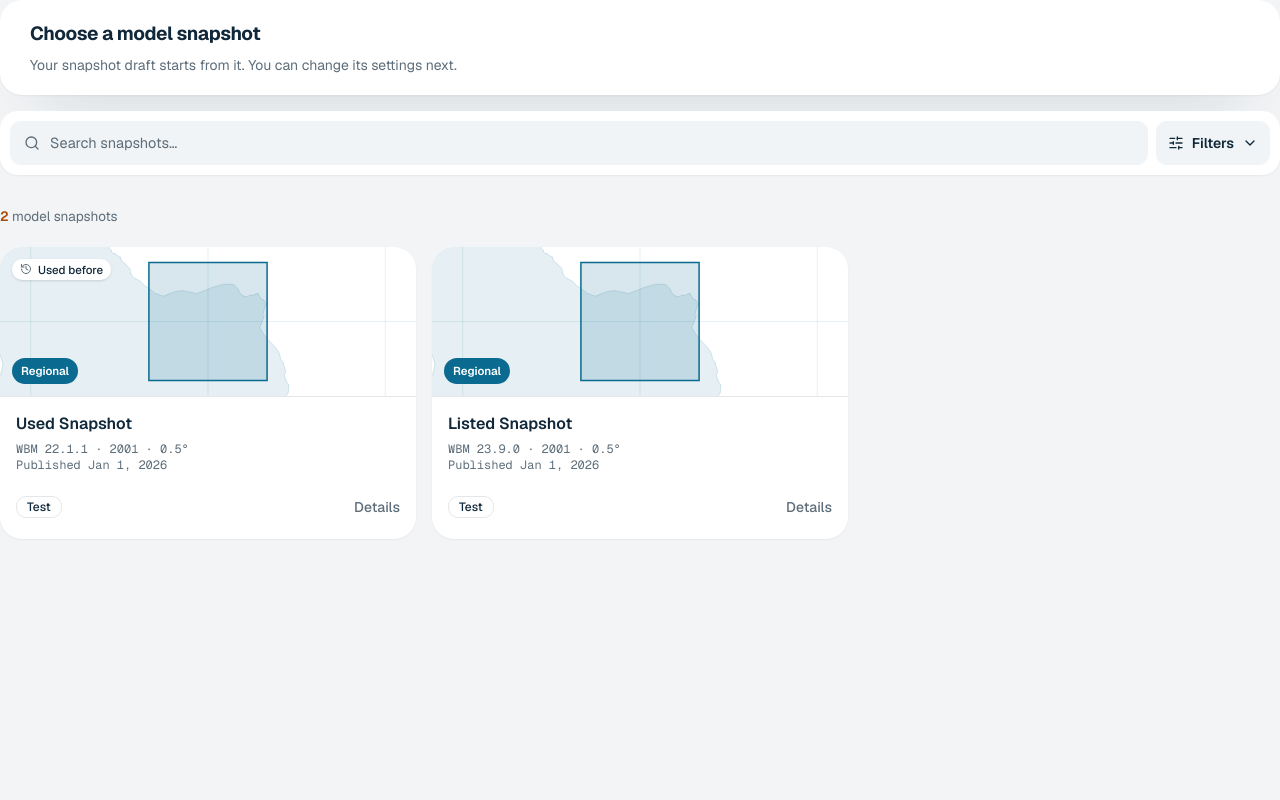
Test: a model snapshot › opens the same from the Select in a snapshot's Details sheet, which closes first
The width and height of the screenshot is (1280, 800).
Click the button with aria-label "Details: Listed Snapshot": (809, 506) x1=778 y1=490 x2=840 y2=522
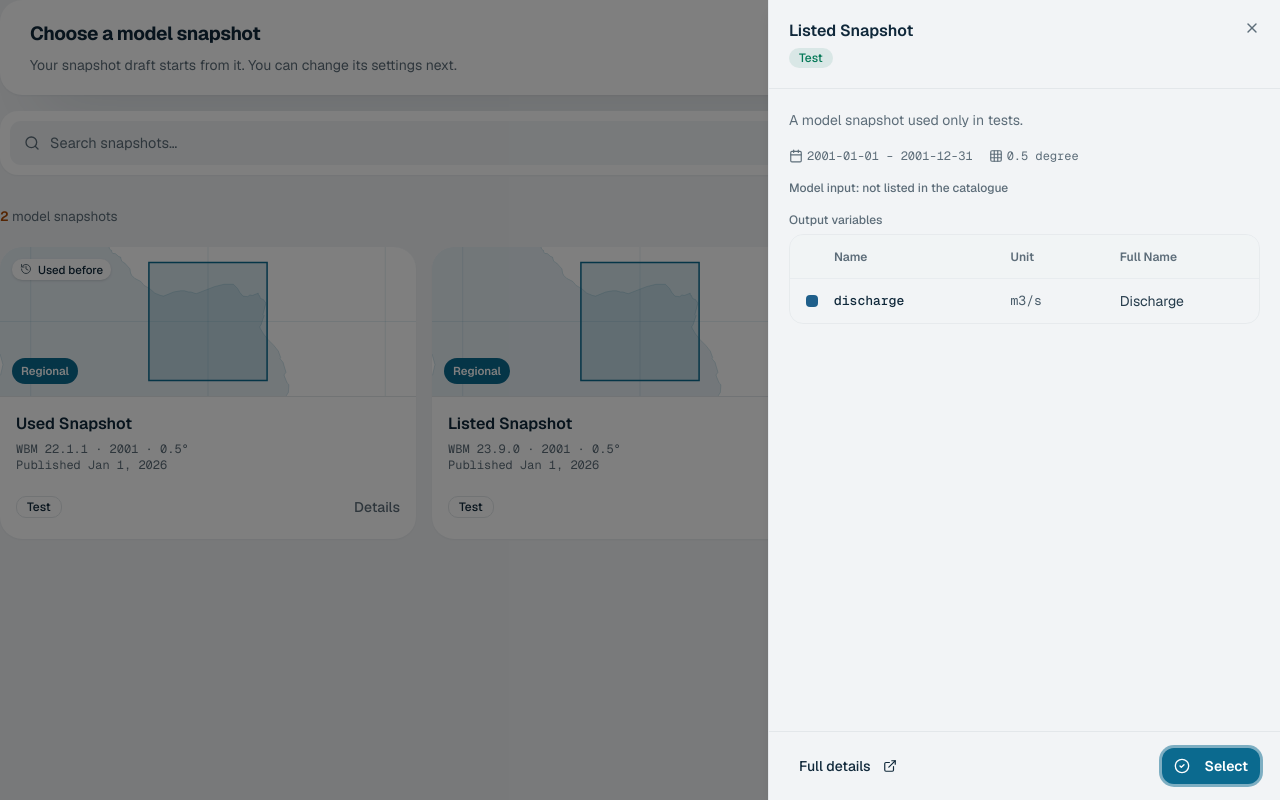
Click the button "Select": (1211, 766) x1=1162 y1=748 x2=1260 y2=784
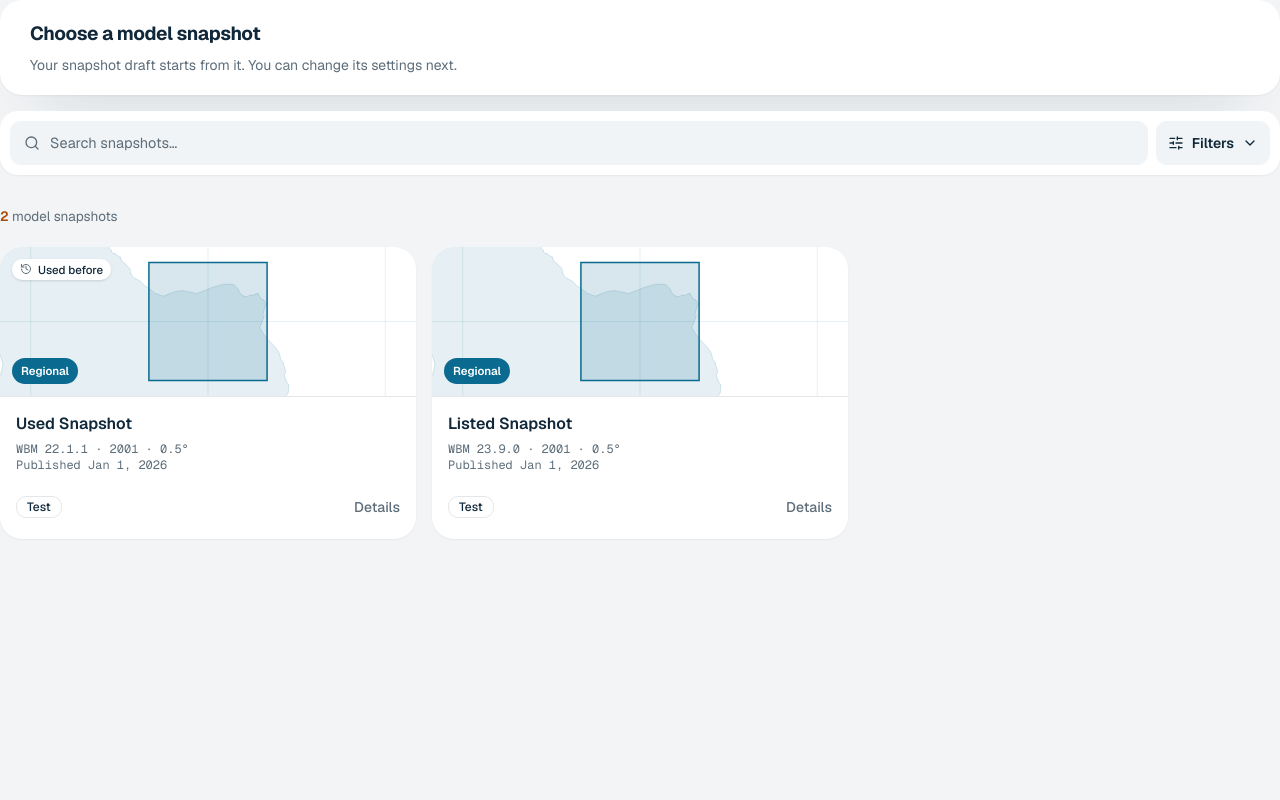
Now the dialog is gone
